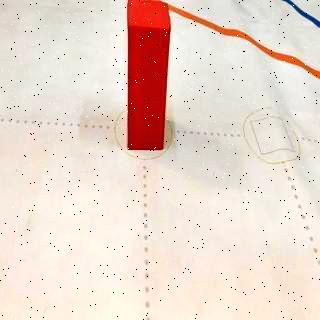redbox: (125, 0, 172, 152)
